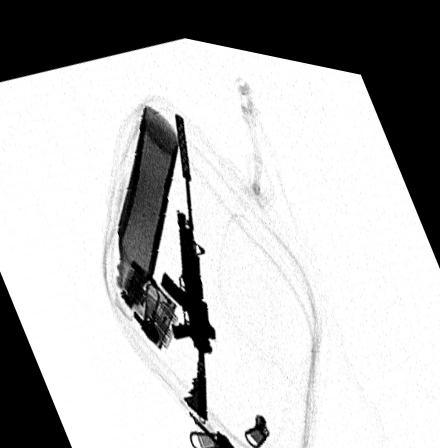Gun: (160, 104, 216, 414)
